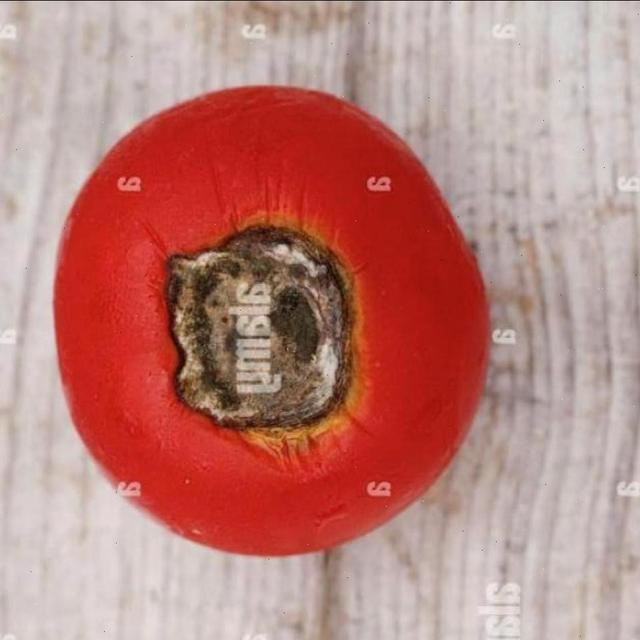Blossom End Rot Fruit: (104, 149, 247, 295)
